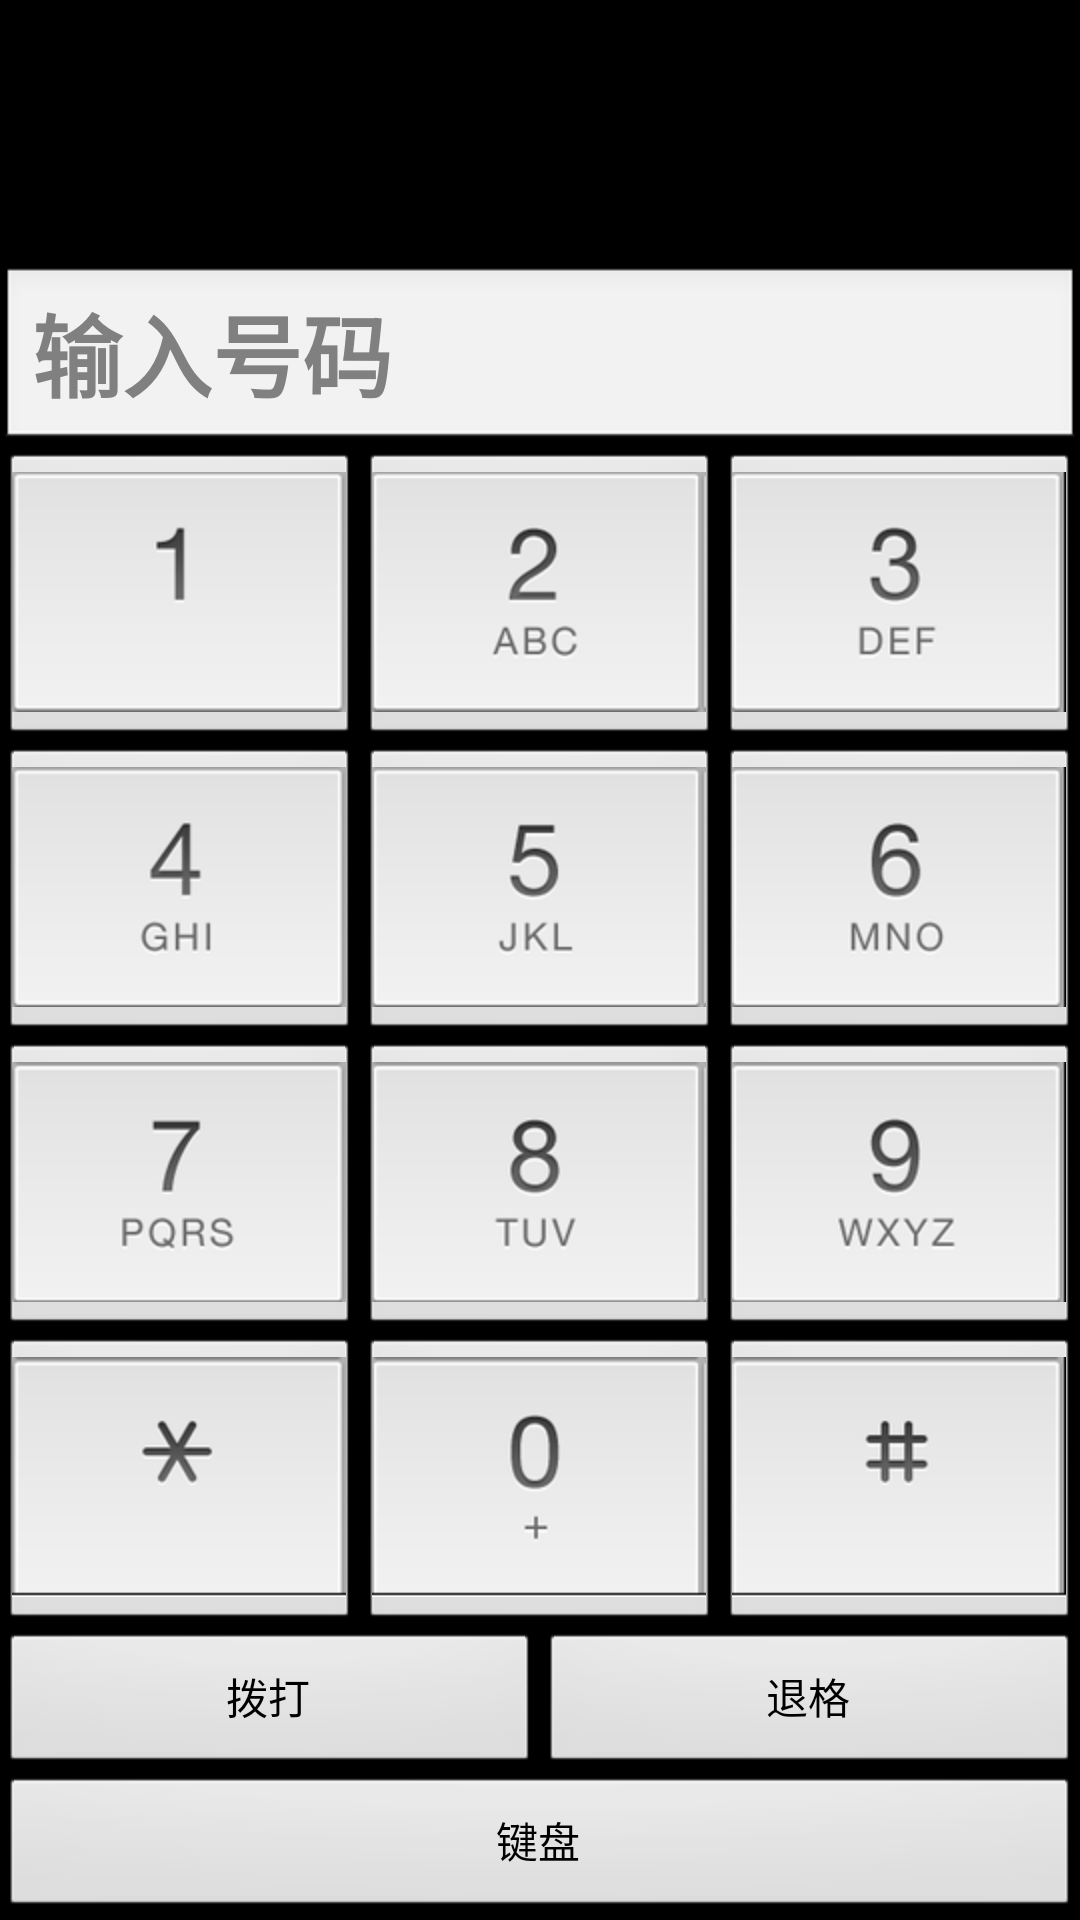

Where to tap for icons on this 1080 x 1920 app screen, as [x,y]:
jing: [899,1478]
xing: [179,1478]
